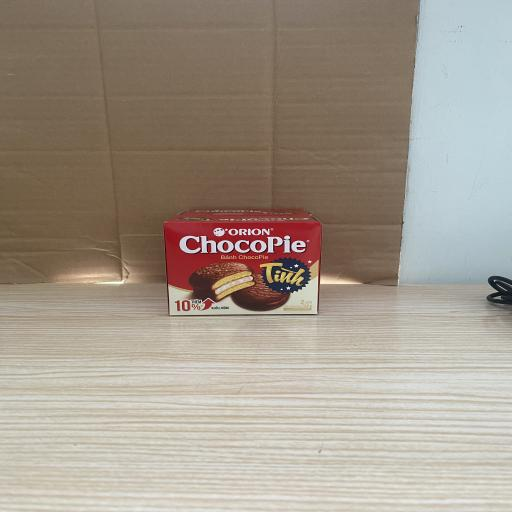chocopie: (163, 208, 322, 316)
